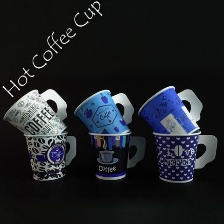paper_cup: (150, 127, 221, 185), (136, 81, 207, 138), (0, 85, 71, 138), (85, 128, 149, 184), (70, 86, 137, 139), (21, 128, 80, 183)
